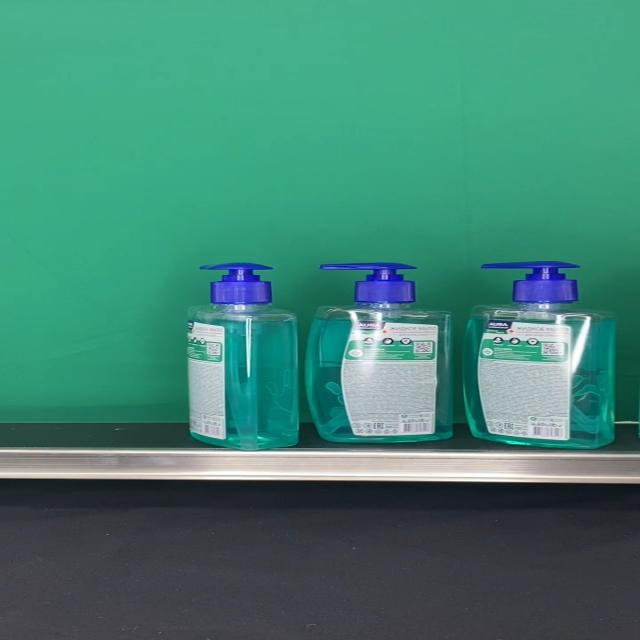Bottle: (463, 261, 614, 449), (305, 262, 453, 443), (187, 262, 300, 450)
Cap: (319, 262, 418, 304), (481, 261, 581, 302), (199, 262, 274, 304)
